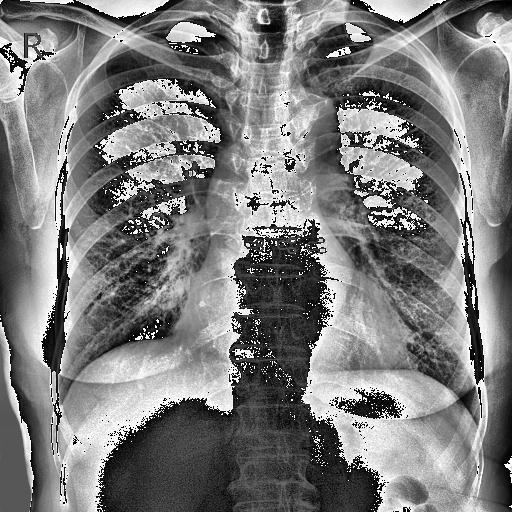0- Aortic enlargement: (256, 90, 342, 163), (268, 90, 342, 172), (268, 86, 341, 166)
13- Pulmonary fibrosis: (186, 168, 204, 212)
3- Cardiomegaly: (170, 287, 414, 392), (166, 289, 434, 380), (170, 290, 408, 366)
